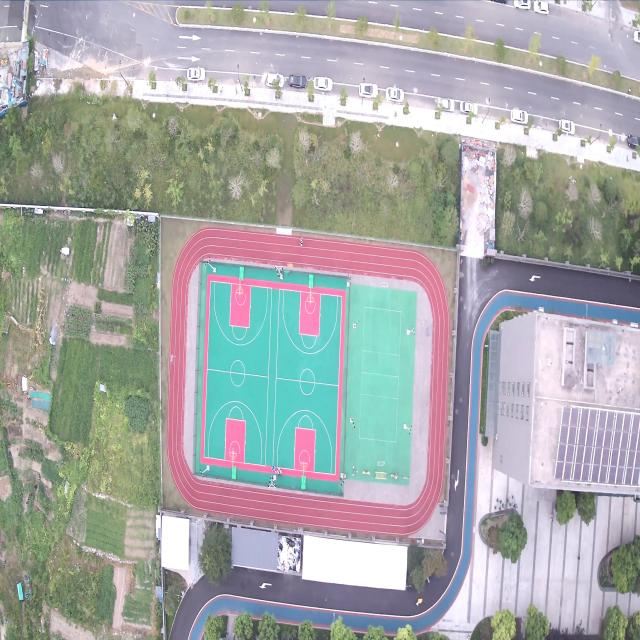UAV: (169, 354, 176, 364)
